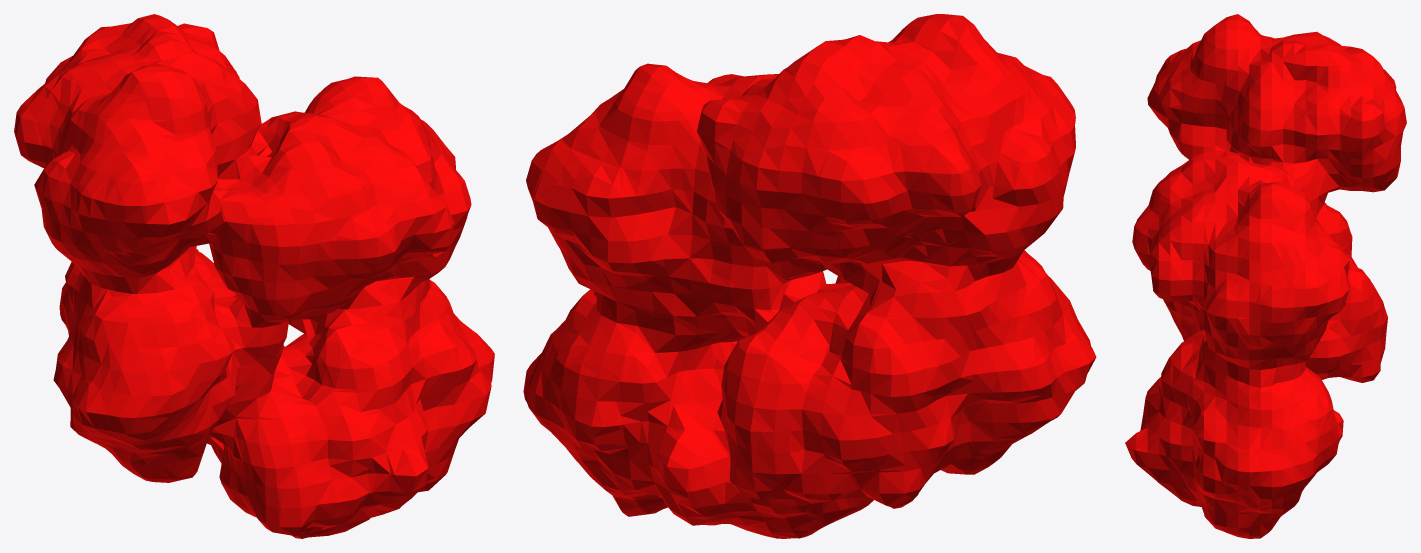
File: solA_coarse.dae
3 renders of one model, left to right at view 1: azimuth 30°, elevation 25°; view 2: azimuth 150°, elevation 25°; view 3: azimuth 270°, elevation 25°, orthographic. The views are drawn at different scales.
Parts seen in each view (by area): view 1: solA; view 2: solA; view 3: solA.
Boxes of the visible parts, bbox=[...] form: solA: bbox=[14, 14, 494, 538]; solA: bbox=[523, 14, 1096, 538]; solA: bbox=[1125, 14, 1406, 538].
Size of the model in its own units: 108 by 115 by 70.39.
